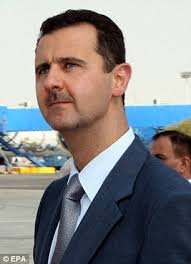middle_eastern_male: (36, 28, 108, 131)
